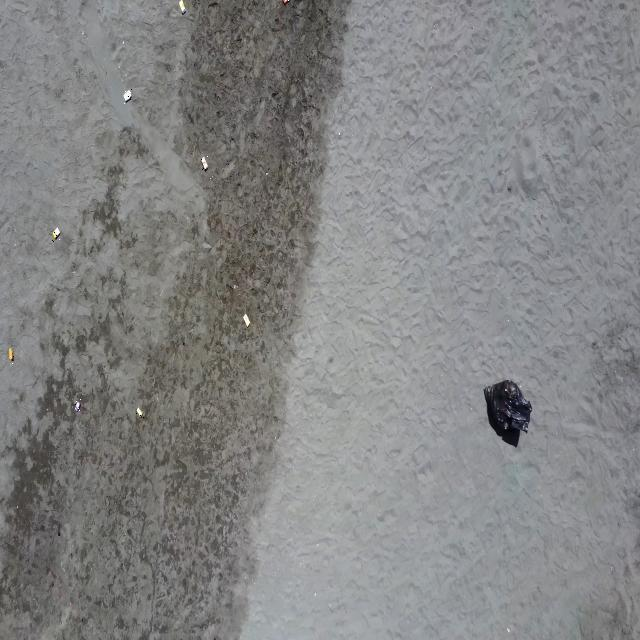Garbage: (484, 380, 531, 431), (51, 227, 60, 240), (124, 88, 131, 103), (72, 400, 80, 412), (179, 0, 186, 13), (243, 312, 249, 326), (136, 407, 143, 417), (201, 156, 206, 169), (8, 347, 12, 362), (281, 0, 287, 4)
